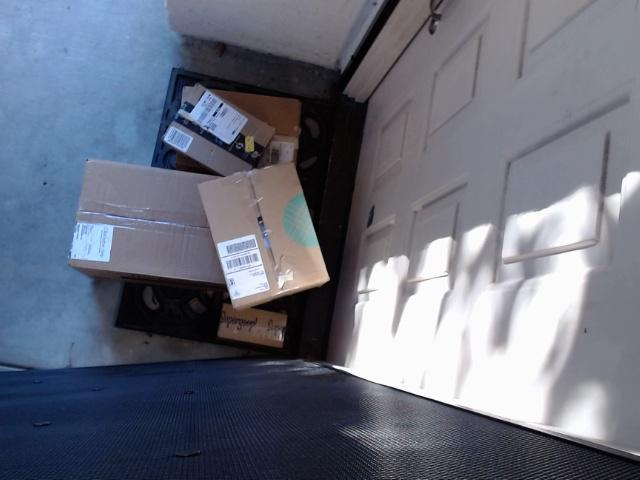box: (76, 156, 326, 305), (159, 56, 325, 203), (183, 166, 335, 311), (169, 83, 278, 178), (216, 295, 311, 369)
